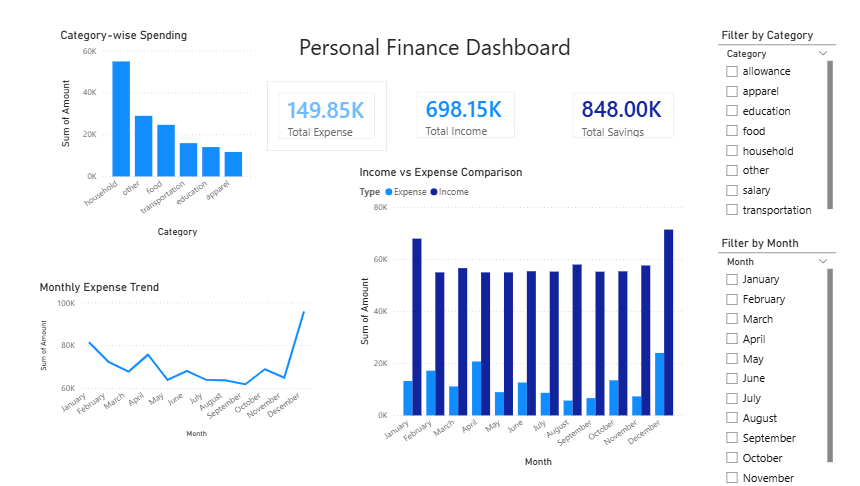

This screenshot's page, from the dashboard's own definition file:
{"tool":"powerbi","page":{"name":"Page 1","canvas":[1280,720],"ordinal":0},"visuals":[{"type":"columnChart","title":"Category-wise Spending","fields":{"Category":["Sheet1.Category"],"Y":["Sum(Sheet1.Amount)"]},"box":[93.7,49.8,289.8,310.2],"z":0},{"type":"lineChart","title":"Monthly Expense Trend","fields":{"Y":["Sum(Sheet1.Amount)"],"Category":["Sheet1.Date.Variation.Date Hierarchy.Month"]},"box":[62.9,418.5,408.3,235.6],"z":1000},{"type":"clusteredColumnChart","title":"Income vs Expense Comparison","fields":{"Category":["Sheet1.Date.Variation.Date Hierarchy.Month"],"Y":["Sum(Sheet1.Amount)"],"Series":["Sheet1.Type"]},"box":[531.2,250.2,482.9,447.8],"z":2000},{"type":"cardVisual","fields":{"Data":["Sum(Sheet1.Amount)"]},"box":[602.9,125.9,178.5,102.4],"z":3000},{"type":"cardVisual","fields":{"Data":["Sum(Sheet1.Amount)"]},"box":[401,127.3,175.6,102.4],"z":4000},{"type":"cardVisual","fields":{"Data":["Sheet1.Savings"]},"box":[831.2,127.3,182.9,101],"z":5000},{"type":"textbox","box":[402.4,49.8,548.8,77.6],"z":5001},{"type":"slicer","title":"Filter by Category","fields":{"Values":["Sheet1.Category"]},"box":[1061,49.8,172.7,281],"z":5002},{"type":"slicer","title":"Filter by Month","fields":{"Values":["Sheet1.Date.Variation.Date Hierarchy.Month"]},"box":[1061,354.1,172.7,365.9],"z":5003}]}

Visuals, with their boxes in screenshot pixels (x1, y1, x2, y2), scaled from the page's 1280x720 canvas onto the 860x486 screenshot:
"Category-wise Spending" columnChart: box(63, 34, 258, 243)
"Monthly Expense Trend" lineChart: box(42, 282, 317, 442)
"Income vs Expense Comparison" clusteredColumnChart: box(357, 169, 681, 471)
cardVisual - Sum(Sheet1.Amount): box(405, 85, 525, 154)
cardVisual - Sum(Sheet1.Amount): box(269, 86, 387, 155)
cardVisual - Sheet1.Savings: box(558, 86, 681, 154)
textbox: box(270, 34, 639, 86)
"Filter by Category" slicer: box(713, 34, 829, 223)
"Filter by Month" slicer: box(713, 239, 829, 485)
